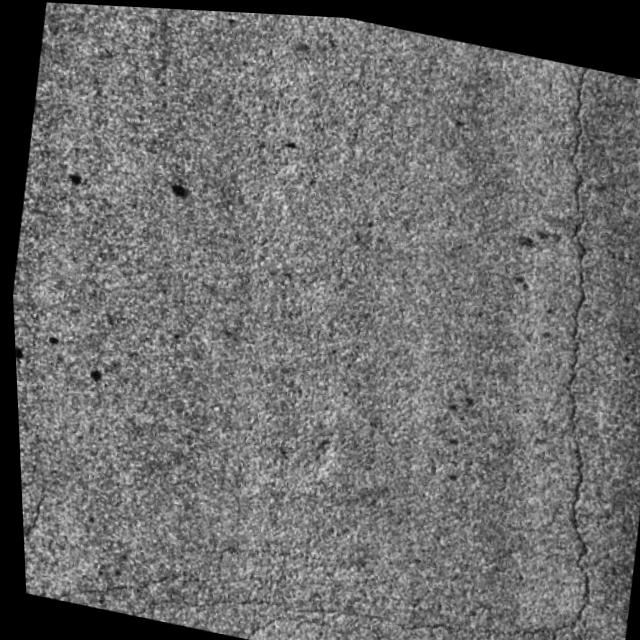Crack: (453, 52, 640, 640)
